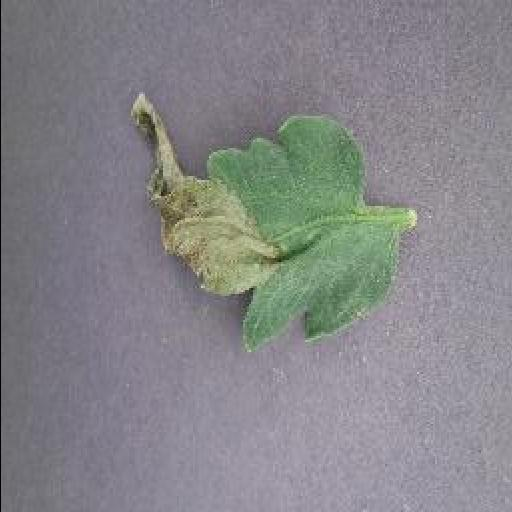disease_tomato: (128, 92, 398, 354)
